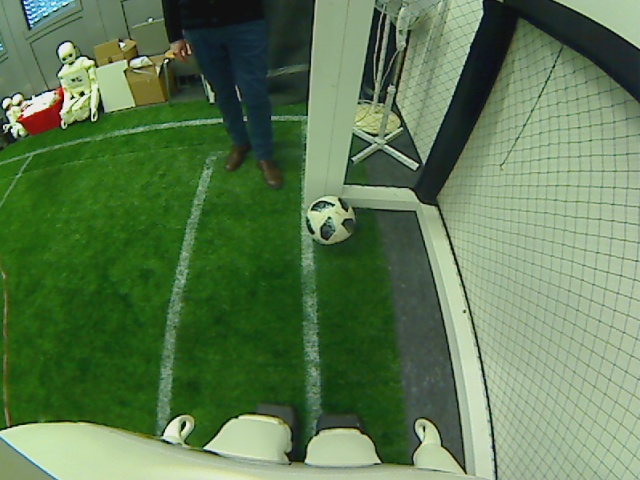ball: (306, 194, 357, 243)
